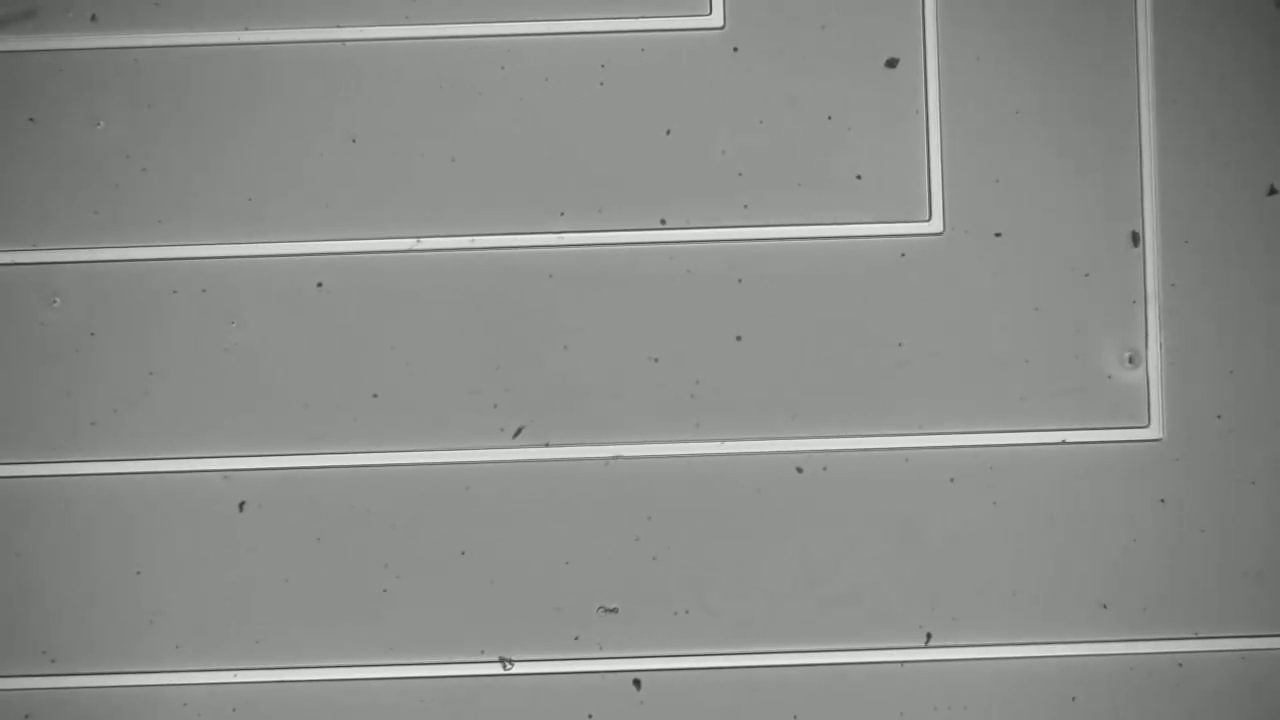stains_enbedded: (489, 646, 528, 684)
